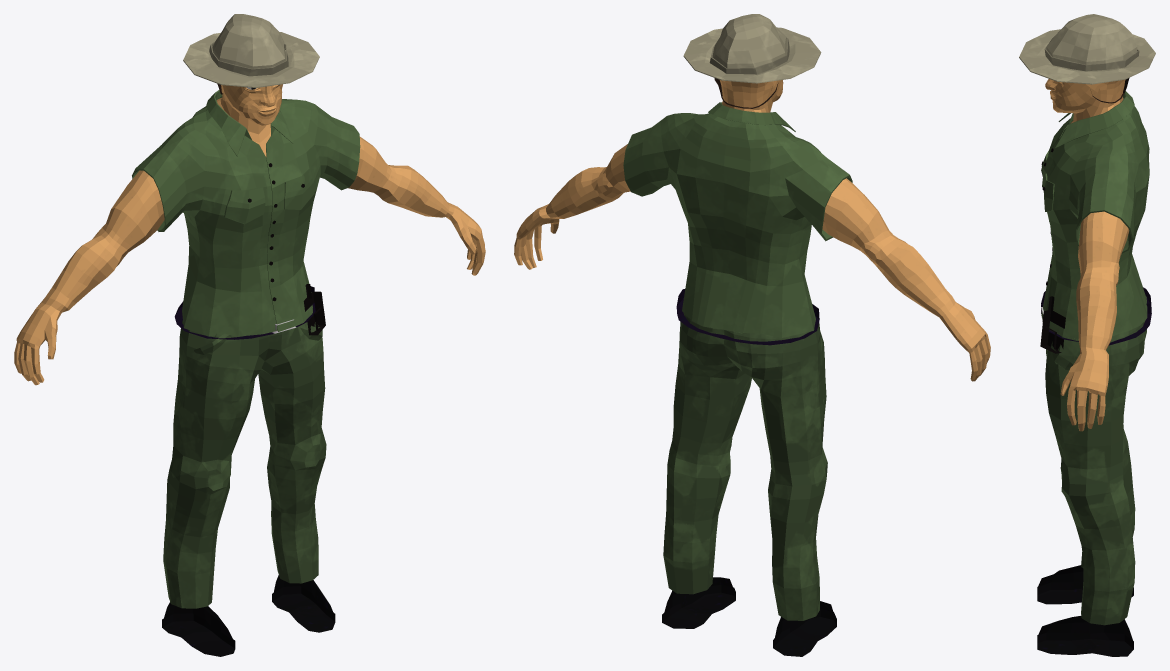
The model's file is Wildlife Ranger.glb.
3 views of the same model, side by side, from view 1: azimuth 30°, elevation 25°; view 2: azimuth 150°, elevation 25°; view 3: azimuth 270°, elevation 25° (orthographic).
Visible parts, largest first — view 1: Main Character VIP; view 2: Main Character VIP; view 3: Main Character VIP.
Part boxes in pixels (x1,y1,x2,y2): Main Character VIP: (14,14,485,656); Main Character VIP: (514,14,990,656); Main Character VIP: (1019,14,1155,656).
Size of the model in its own units: 148 by 186 by 38.12.
Materials: 1 (1 with a texture image).
